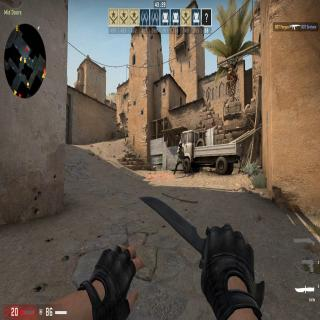CT-Body: (174, 140, 186, 176)
CT-Head: (178, 142, 183, 149)
